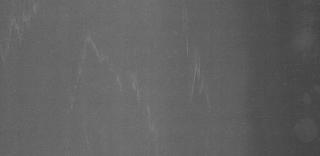silk spot: (173, 34, 215, 104), (108, 64, 150, 102), (74, 35, 116, 69)
